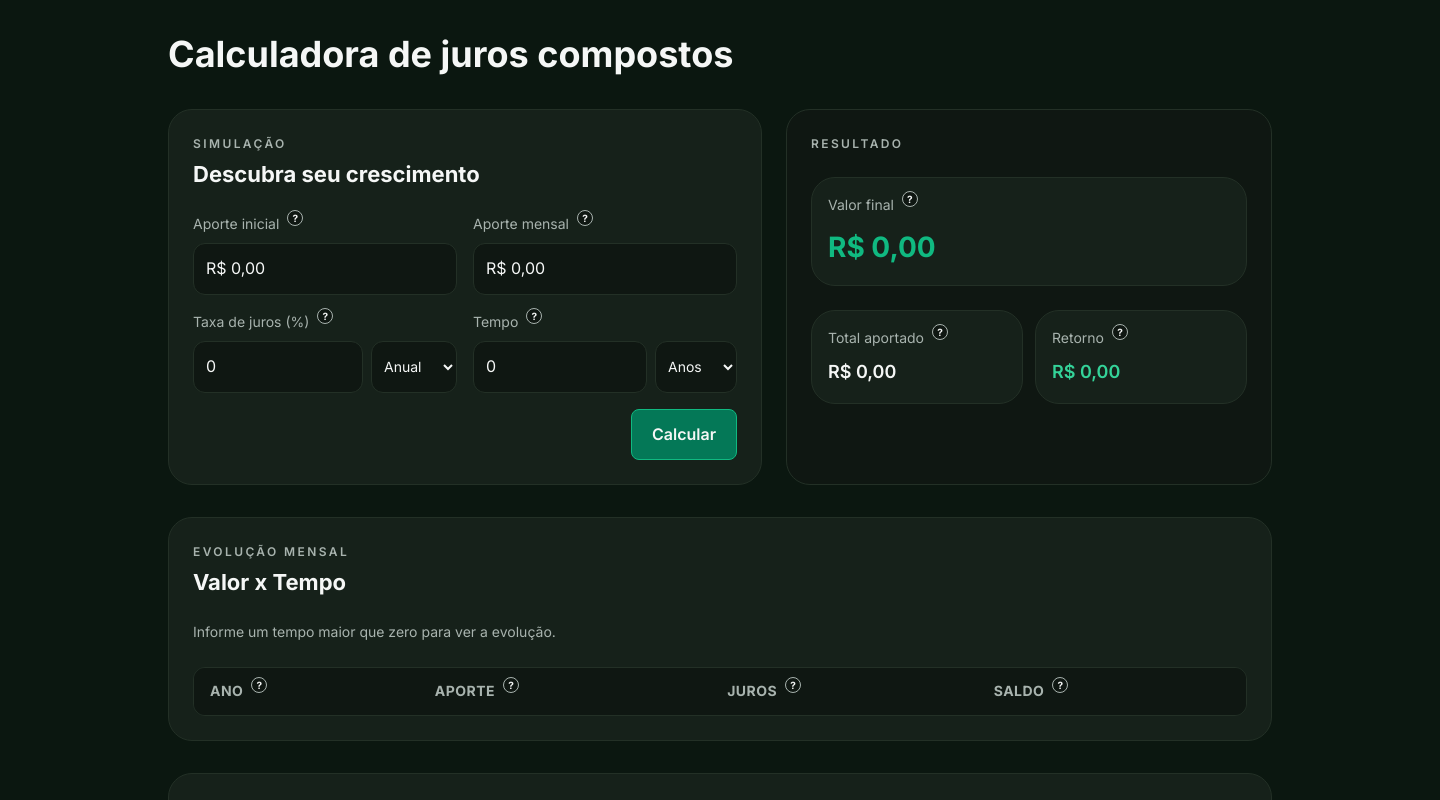
Test case: CompoundInterestCalculator › groups the monthly breakdown every twelve months on demand
Step 1. Type "10000" into the field labelled "Aporte mensal" → (605, 269), box top-left (473, 243), bottom-right (737, 295)
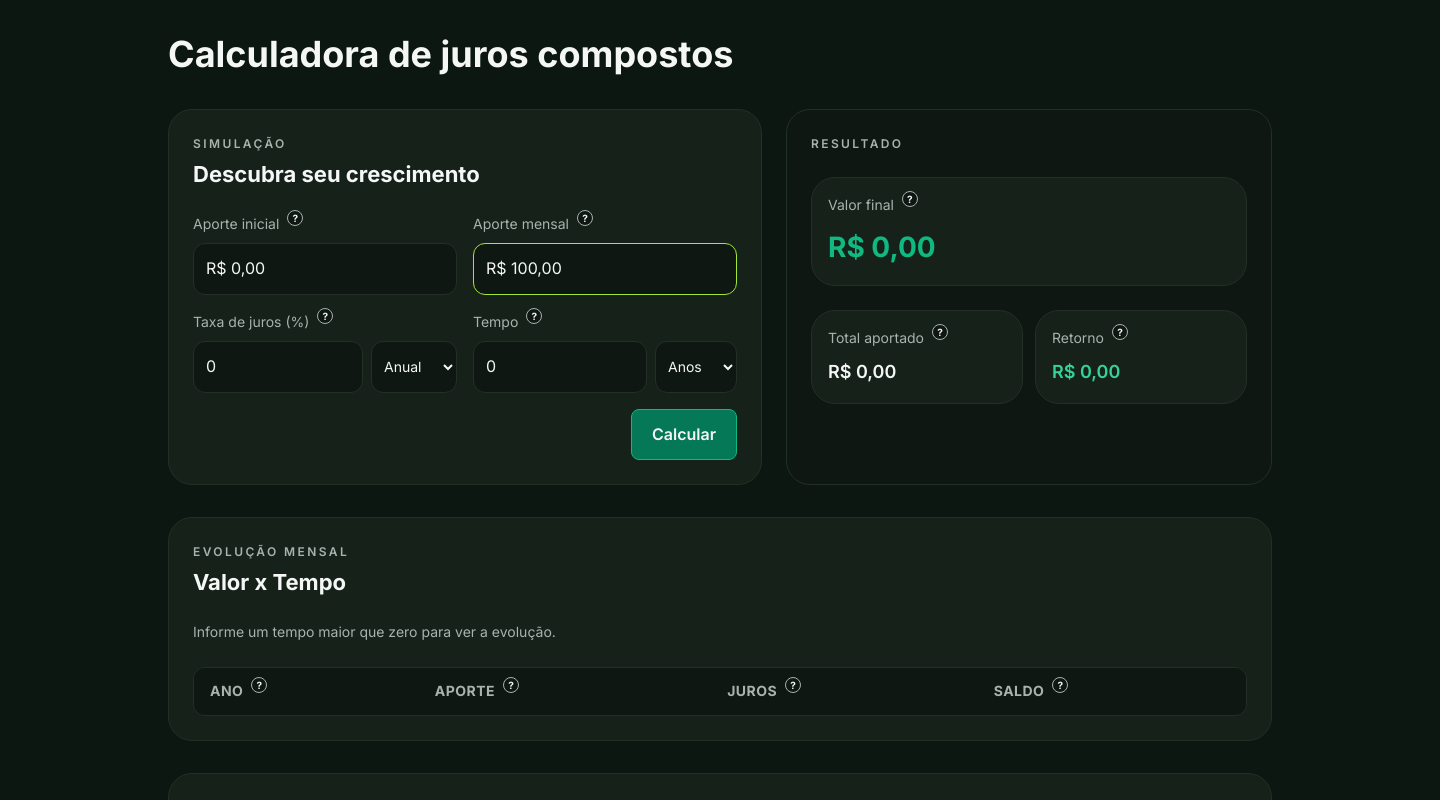
Step 2. Replace the text in the field labelled "Tempo" with "18" → (560, 367), box top-left (473, 341), bottom-right (647, 393)
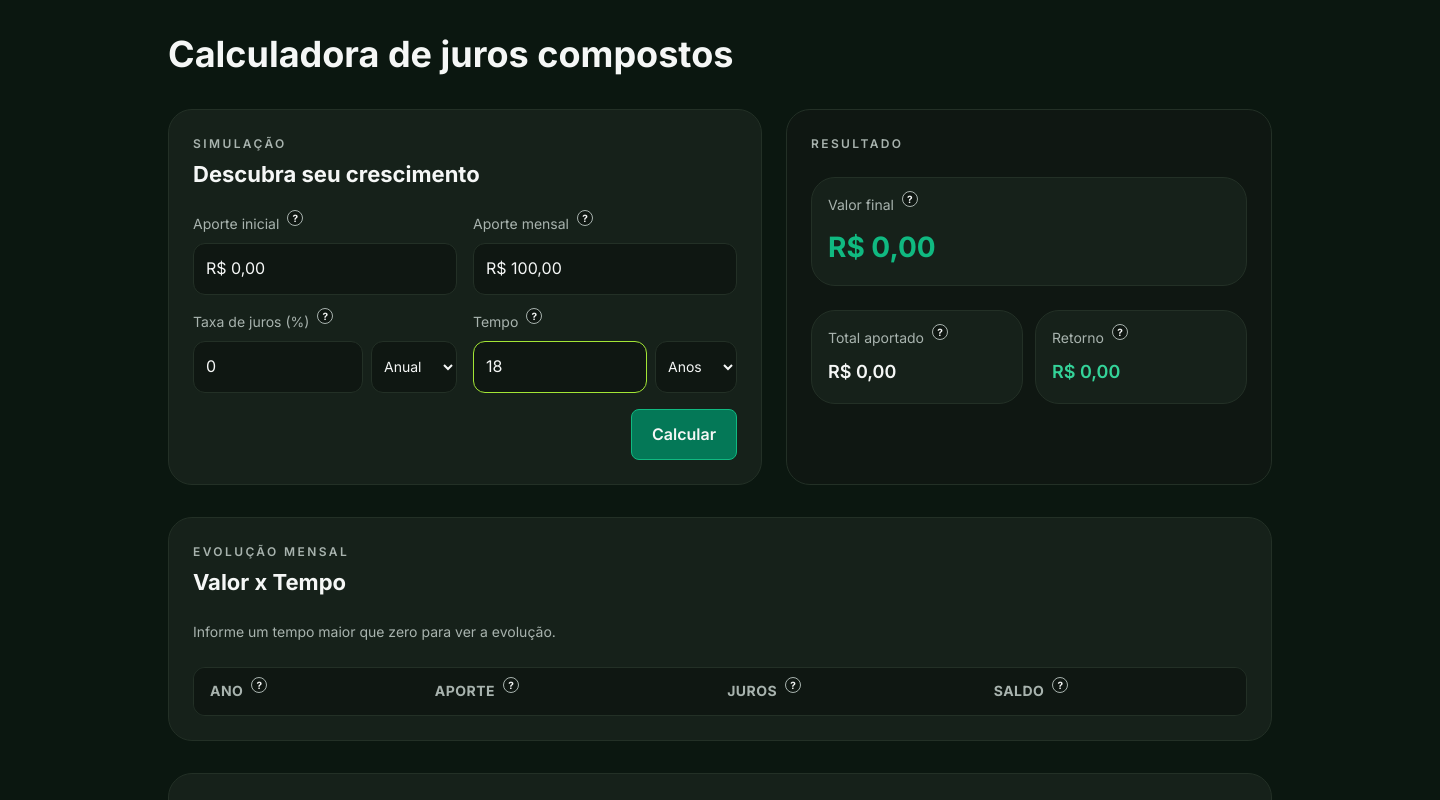
Step 3. Select "Meses" in the dropdown named "Unidade do tempo" → (696, 367), box top-left (655, 341), bottom-right (737, 393)
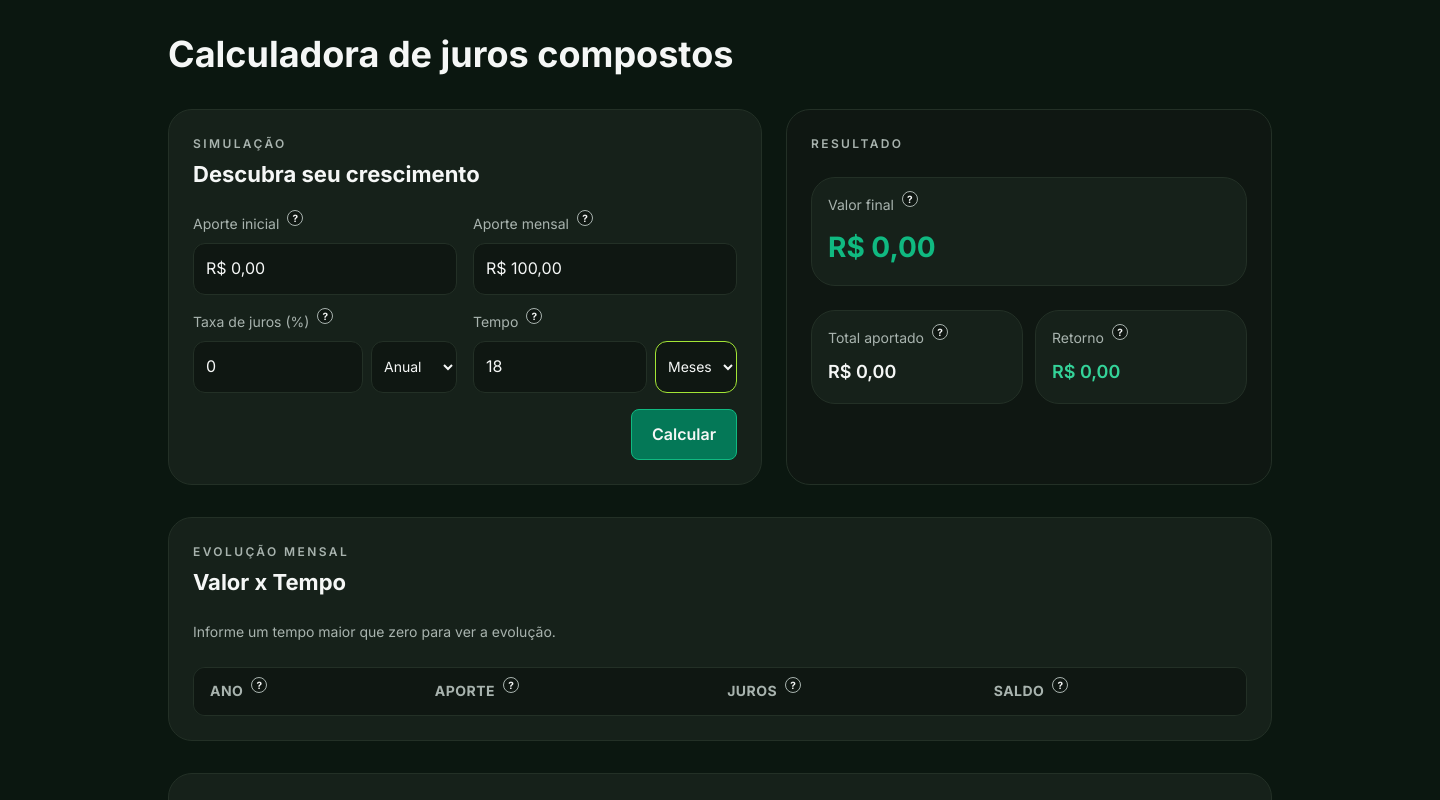
Step 4. Click the button "Calcular" → (684, 434), box top-left (631, 409), bottom-right (737, 460)
(page scrolled)
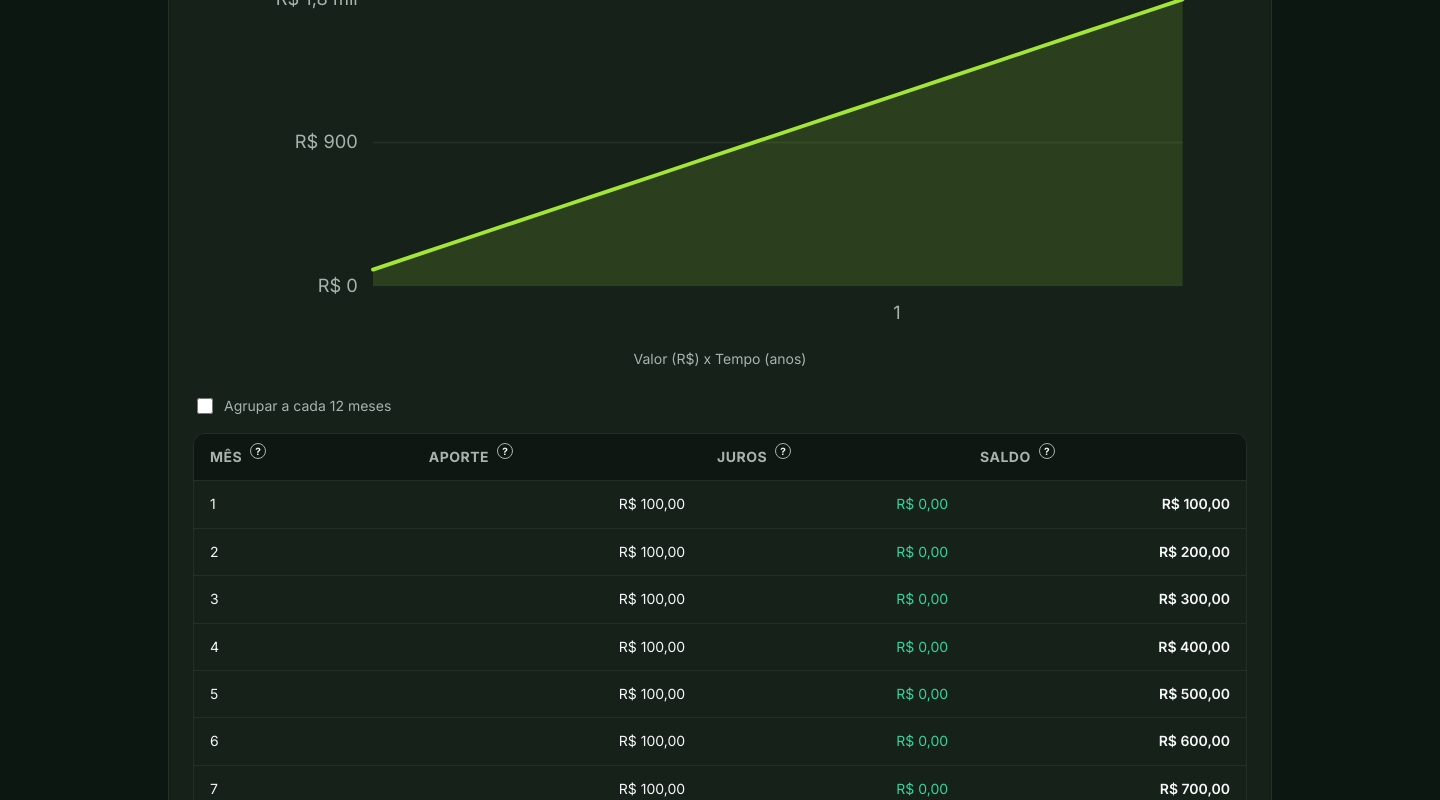
Step 5. Click the checkbox labelled "Agrupar a cada 12 meses" → (205, 406), box top-left (197, 398), bottom-right (213, 414)
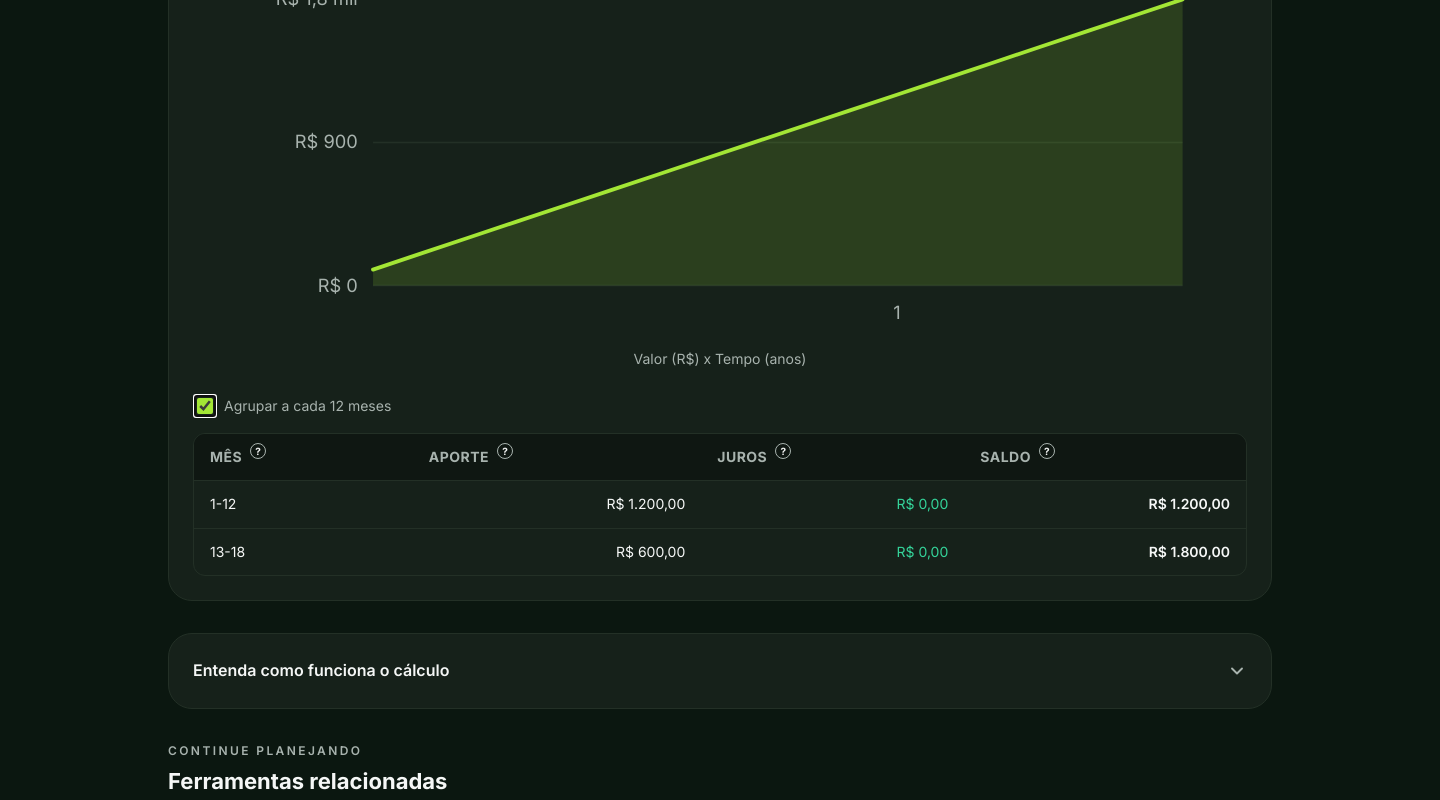
Now the column heading "Mês" is shown, box top-left (194, 434), bottom-right (413, 481)
Now the number of rows is 3, box top-left (194, 434), bottom-right (1246, 481); top-left (194, 481), bottom-right (1246, 528); top-left (194, 528), bottom-right (1246, 575)
Now the cell "1-12" is shown, box top-left (194, 481), bottom-right (413, 528)
